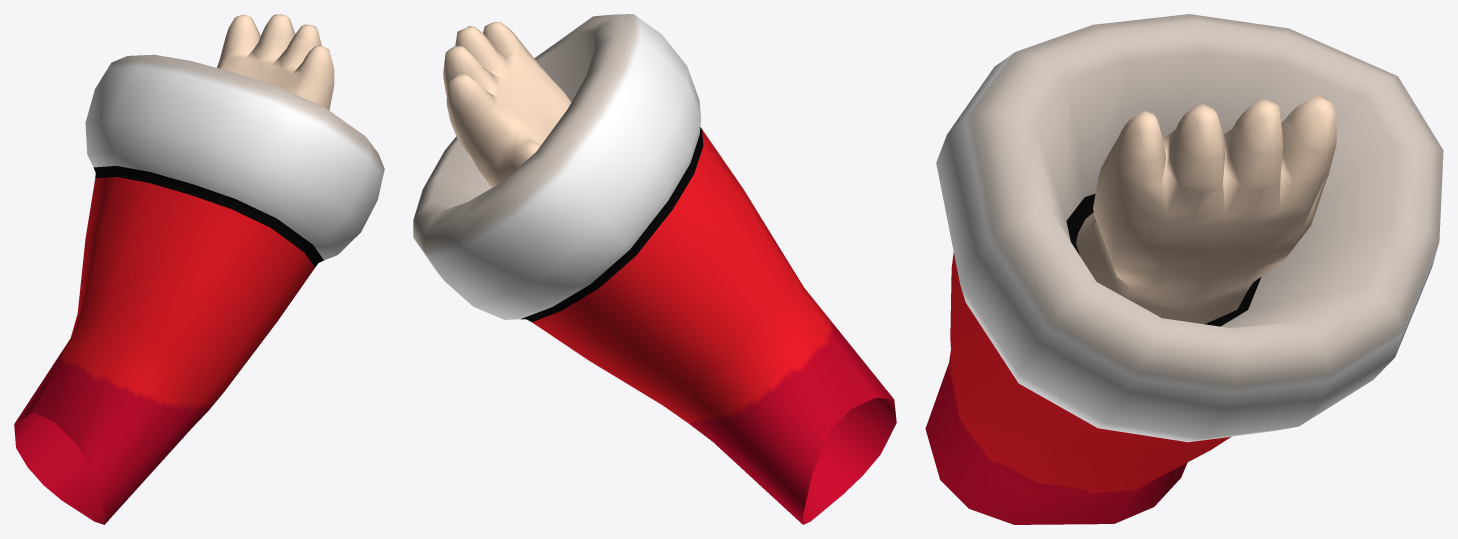
The model's file is brazo_izq.obj.
3 views of the same model, side by side, from view 1: azimuth 30°, elevation 25°; view 2: azimuth 150°, elevation 25°; view 3: azimuth 270°, elevation 25° (orthographic). The views are drawn at different scales.
Visible parts, largest first — view 1: Body_jinsters_padoru.003; view 2: Body_jinsters_padoru.003; view 3: Body_jinsters_padoru.003.
Boxes of the visible parts, x1,y1,x2,y2 form: Body_jinsters_padoru.003: [14, 14, 384, 524]; Body_jinsters_padoru.003: [413, 14, 896, 524]; Body_jinsters_padoru.003: [925, 14, 1443, 524].
Size of the model in its own units: 0.0986 by 0.1086 by 0.0803.
